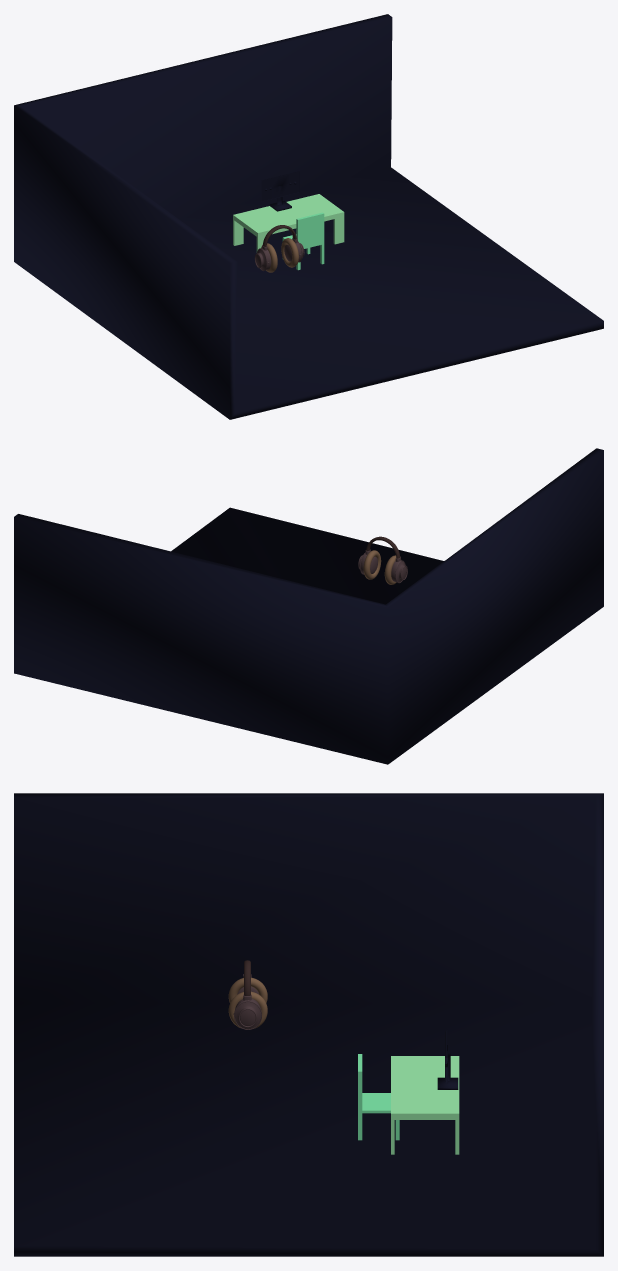
The model's file is Room.glb.
3 views of the same model, one above another, from view 1: azimuth 30°, elevation 25°; view 2: azimuth 150°, elevation 25°; view 3: azimuth 270°, elevation 25° (orthographic). The views are drawn at different scales.
Visible parts, largest first — view 1: Cube, Cube.001, Cube.002, Cube.003, Circle; view 2: Cube, Circle; view 3: Cube, Cube.001, Cube.002, Circle, Cylinder.004.
Part boxes in pixels (box(x1,y1,x2,y2)): Cube: box(14, 14, 603, 419); Cube.001: box(233, 194, 344, 252); Cube.002: box(282, 212, 324, 270); Cube.003: box(261, 171, 299, 204); Circle: box(261, 238, 298, 272); Cube: box(14, 448, 603, 764); Circle: box(363, 550, 396, 584); Cube: box(14, 793, 603, 1256); Cube.001: box(391, 1056, 459, 1154); Cube.002: box(358, 1054, 399, 1140); Circle: box(228, 977, 267, 1028); Cylinder.004: box(235, 998, 261, 1029).
Bounding box in the file's own units: 10 × 4 × 10.
